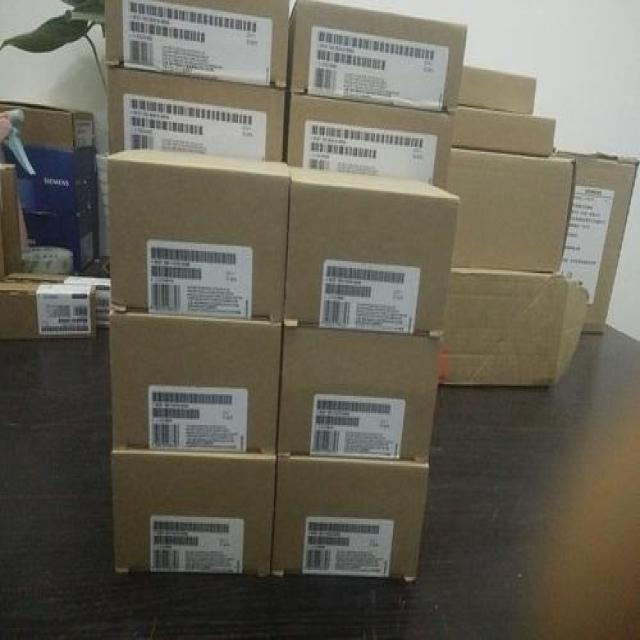Carton: (106, 159, 456, 575), (289, 0, 468, 184), (105, 2, 287, 160)
